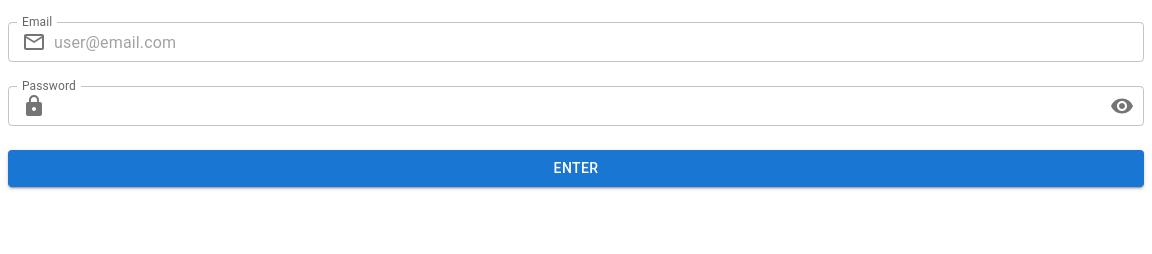
LoginForm › should render error messages on try to send with empty fields
Click the button "Enter".
click(576, 168)  # box [8, 150, 1144, 186]
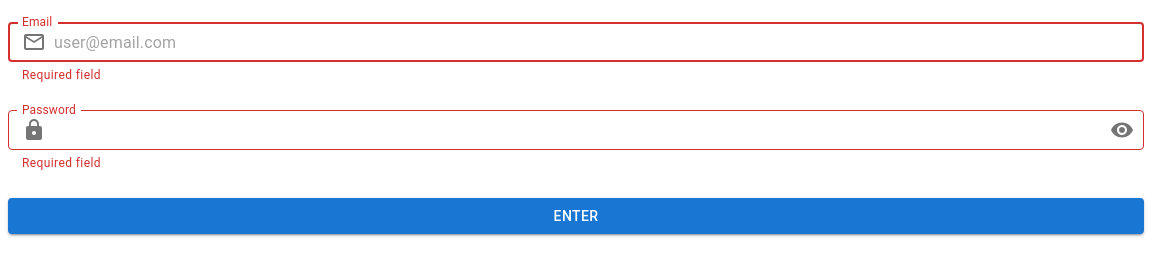
expect the text "Required field" is shown 2 times: met, box [22, 68, 101, 82]; [22, 156, 101, 170]
